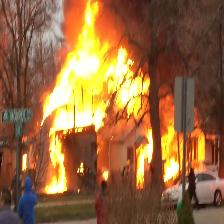fire: (42, 7, 205, 187)
